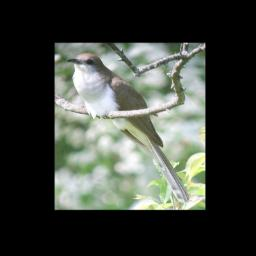Cuckoo: (66, 52, 192, 204)
